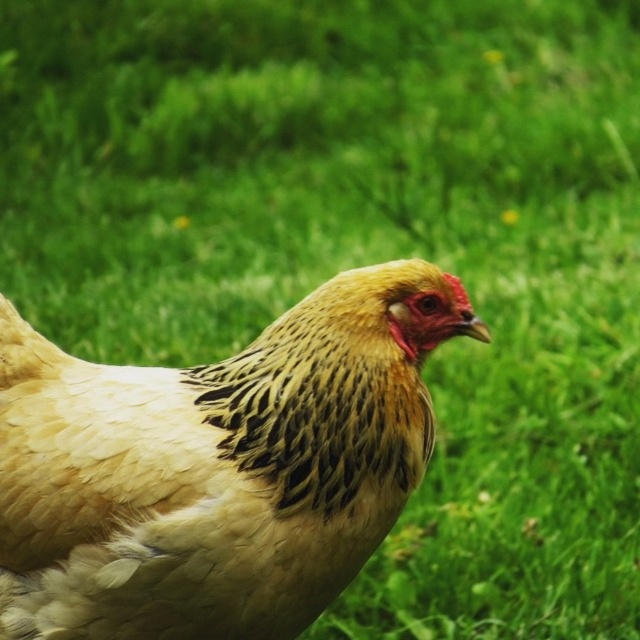Chicken: (1, 259, 491, 640)
